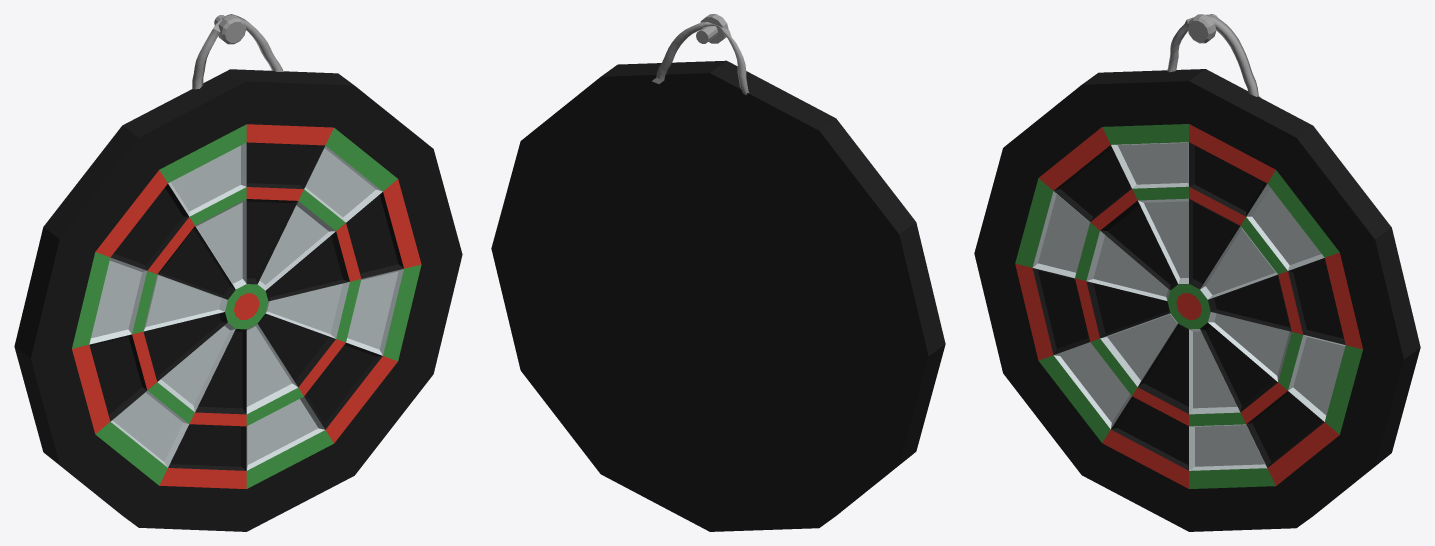
Rendered from dart.glb.
3 renders of one model, left to right at view 1: azimuth 30°, elevation 25°; view 2: azimuth 150°, elevation 25°; view 3: azimuth 330°, elevation 25°, orthographic.
Visible parts, largest first — view 1: dart; view 2: dart; view 3: dart.
Boxes of the visible parts, box(x1,y1,x2,y2) form: dart: box(14, 14, 462, 531); dart: box(491, 14, 945, 531); dart: box(974, 14, 1420, 531).
Bounding box in the file's own units: 0.5076 × 0.5691 × 0.053.
